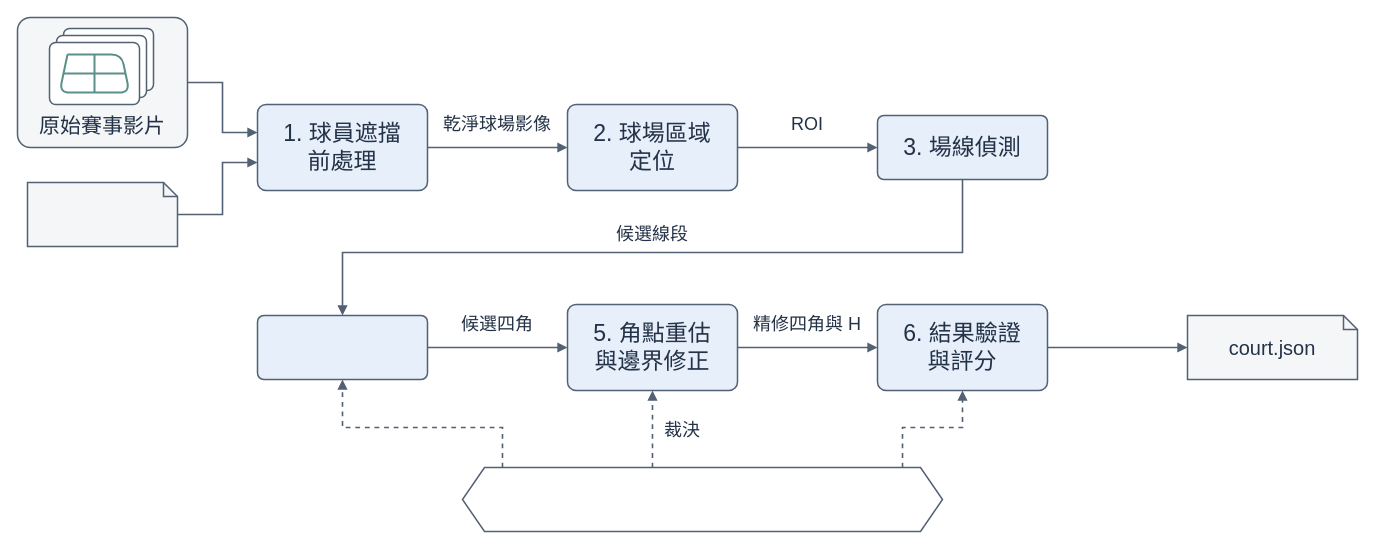
Image size: 1376x550. Some labels were removed from this diagram. The shapes that lost their labels are listed below. From the top down, each one's box as (x1, y1, x2, y2) in pixels, then its label:
(26, 181, 178, 247): segments.json
(256, 314, 428, 380): 4. 外角候選
(461, 466, 943, 532): 單應性 + 吻合度評分
